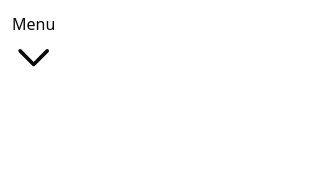
Test case: HeaderNavItem › with dropdown › opens dropdown on click
The image size is (332, 172).
Click the button "Menu".
click(34, 46)  # box [12, 12, 55, 79]
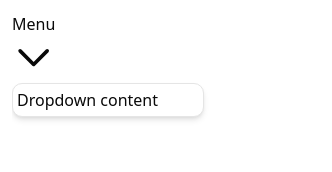
Expected: the menu is shown, [12, 83, 204, 117]
